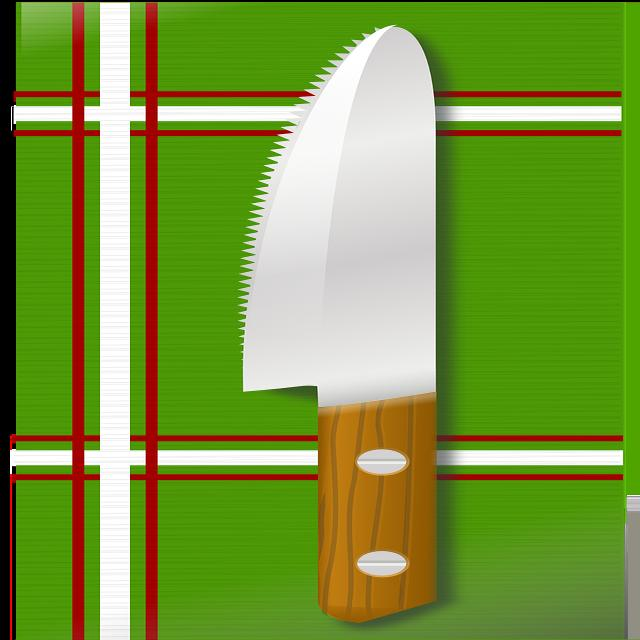Knife: (244, 26, 436, 621)
